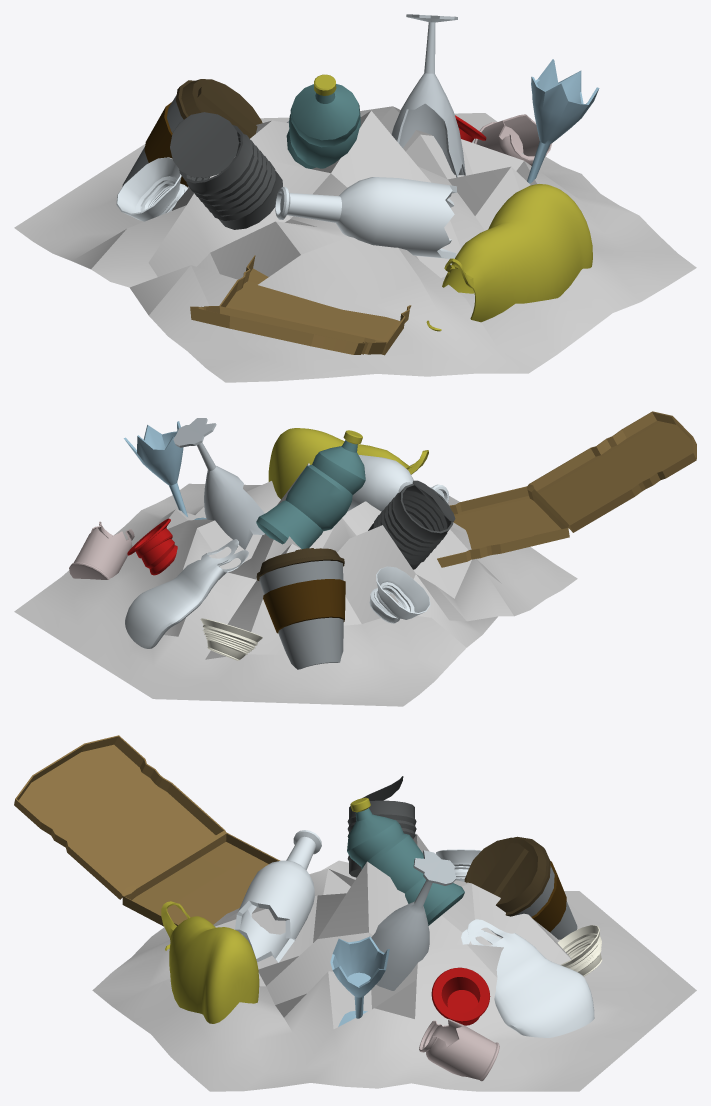
File: Basura_Recuperable.fbx
3 renders of one model, top to bottom at view 1: azimuth 30°, elevation 25°; view 2: azimuth 150°, elevation 25°; view 3: azimuth 270°, elevation 25°, orthographic. The views are drawn at different scales.
Parts seen in each view (by area): view 1: Basura_Recuperable; view 2: Basura_Recuperable; view 3: Basura_Recuperable.
Boxes of the visible parts, left/top/right/bottom form: Basura_Recuperable: left=14, top=14, right=696, bottom=382; Basura_Recuperable: left=14, top=411, right=696, bottom=706; Basura_Recuperable: left=14, top=735, right=696, bottom=1091.
Size of the model in its own units: 238 by 91.25 by 287.
